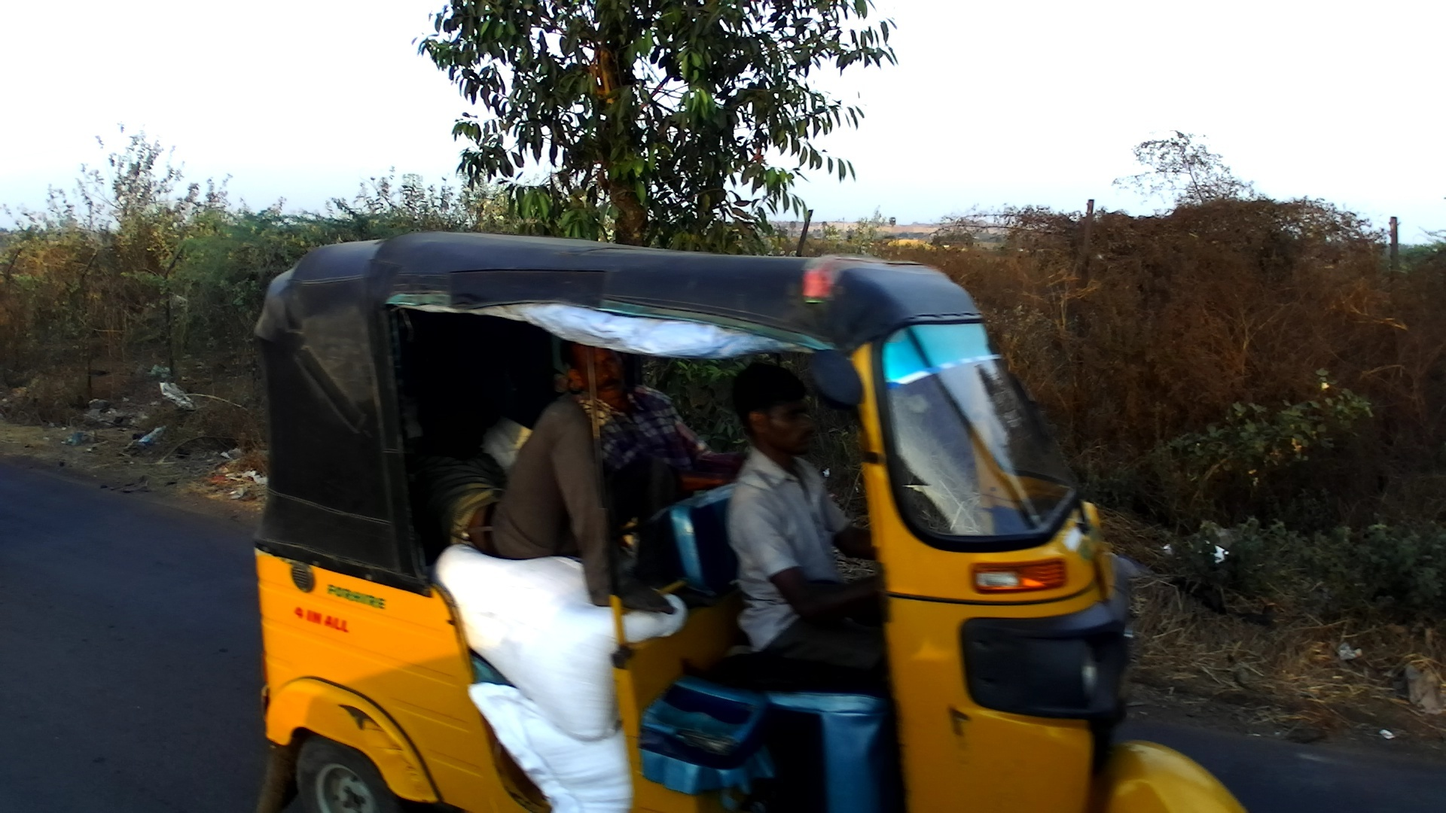autorickshaw: (249, 235, 1243, 813)
